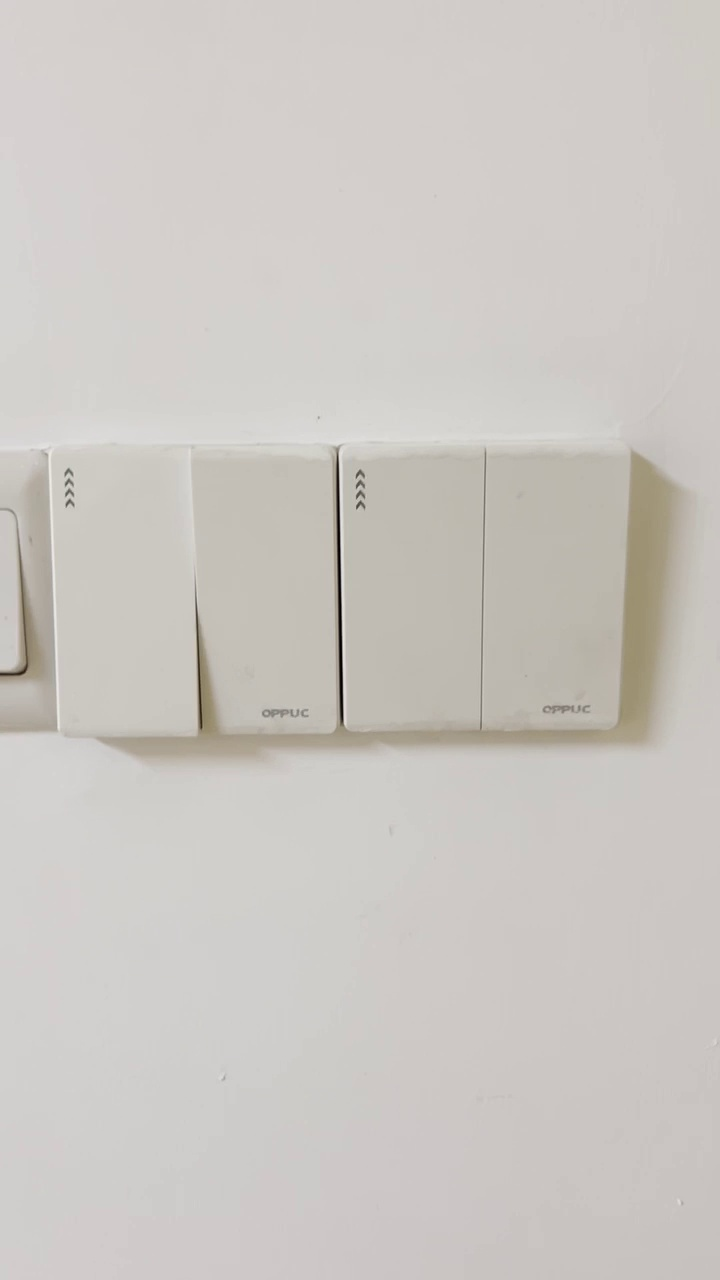button1: (51, 450, 190, 732), (198, 450, 334, 736), (490, 443, 623, 729), (345, 447, 478, 732)
